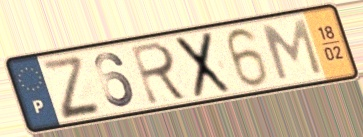6: (224, 25, 272, 90), (93, 50, 138, 109)
M: (259, 16, 326, 83)
R: (128, 39, 192, 107)
X: (173, 29, 234, 101)
Z: (37, 53, 104, 121)
